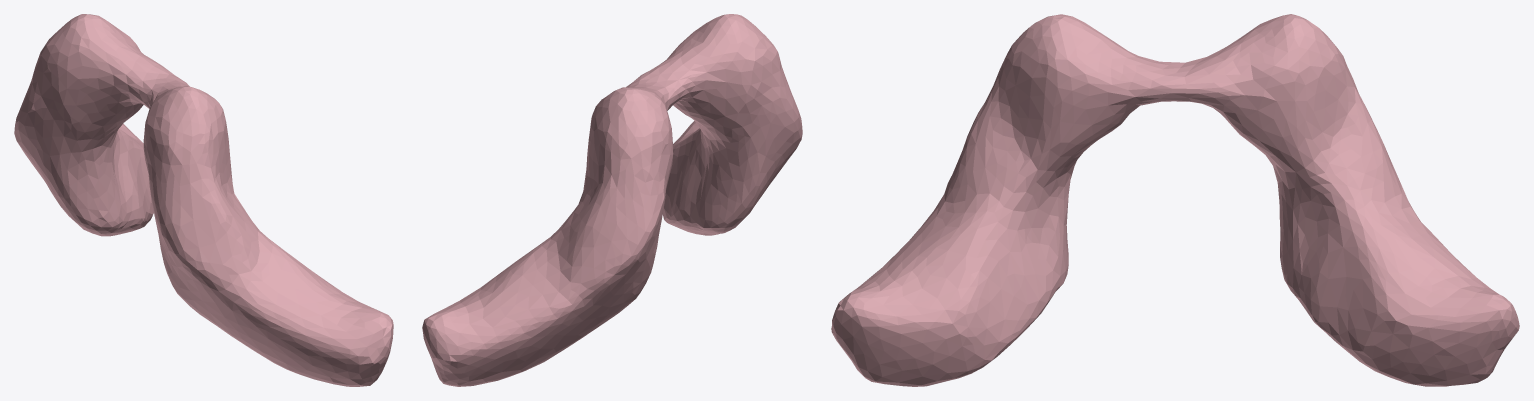
3 views of the same model, side by side, from view 1: azimuth 30°, elevation 25°; view 2: azimuth 150°, elevation 25°; view 3: azimuth 270°, elevation 25° (orthographic). The views are drawn at different scales.
Visible parts, largest first — view 1: 239.obj; view 2: 239.obj; view 3: 239.obj.
Boxes of the visible parts, bbox=[...] form: 239.obj: bbox=[14, 14, 393, 386]; 239.obj: bbox=[422, 14, 802, 386]; 239.obj: bbox=[831, 14, 1519, 386].
Bounding box in the file's own units: 1398 × 2132 × 4222.
